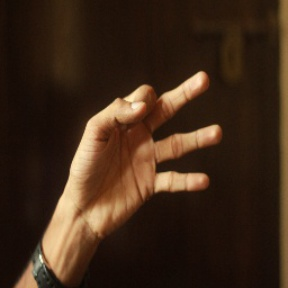K: (73, 72, 221, 211)
